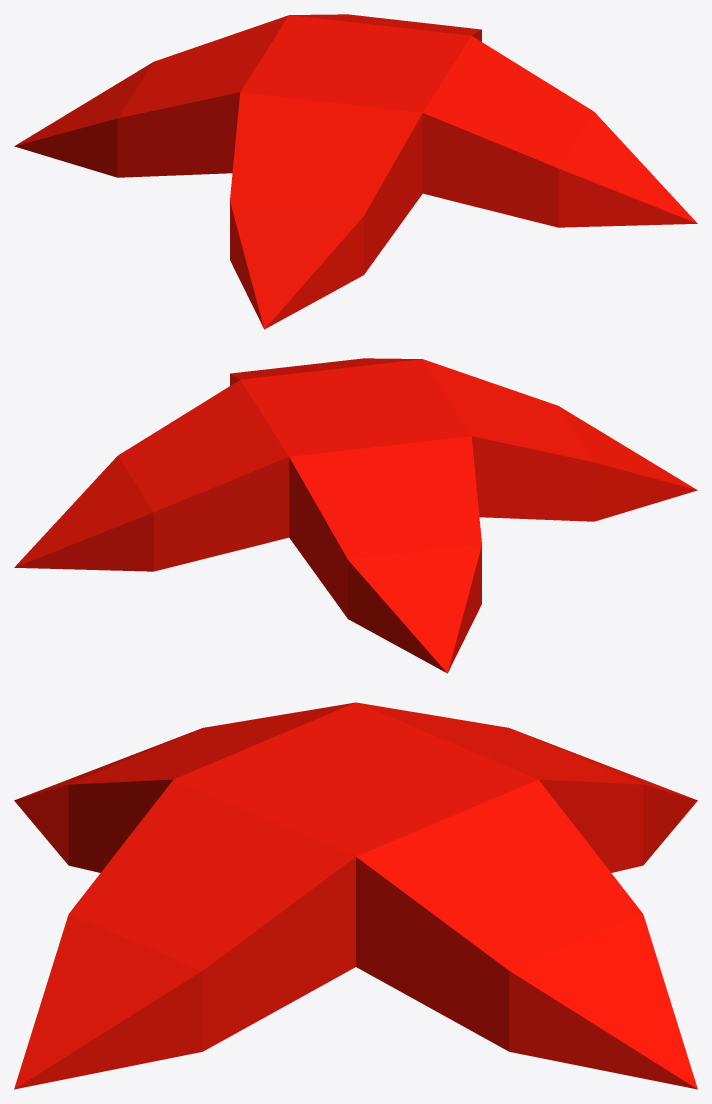
The model's file is BlockFlag.glb.
3 views of the same model, one above another, from view 1: azimuth 30°, elevation 25°; view 2: azimuth 150°, elevation 25°; view 3: azimuth 270°, elevation 25° (orthographic). The views are drawn at different scales.
Parts seen in each view (by area): view 1: pole; view 2: pole; view 3: pole.
Part boxes in pixels (x1,y1,x2,y2): pole: (14, 14, 697, 329); pole: (14, 358, 697, 673); pole: (14, 702, 697, 1089).
Size of the model in its own units: 1.12 by 0.3 by 1.12.
